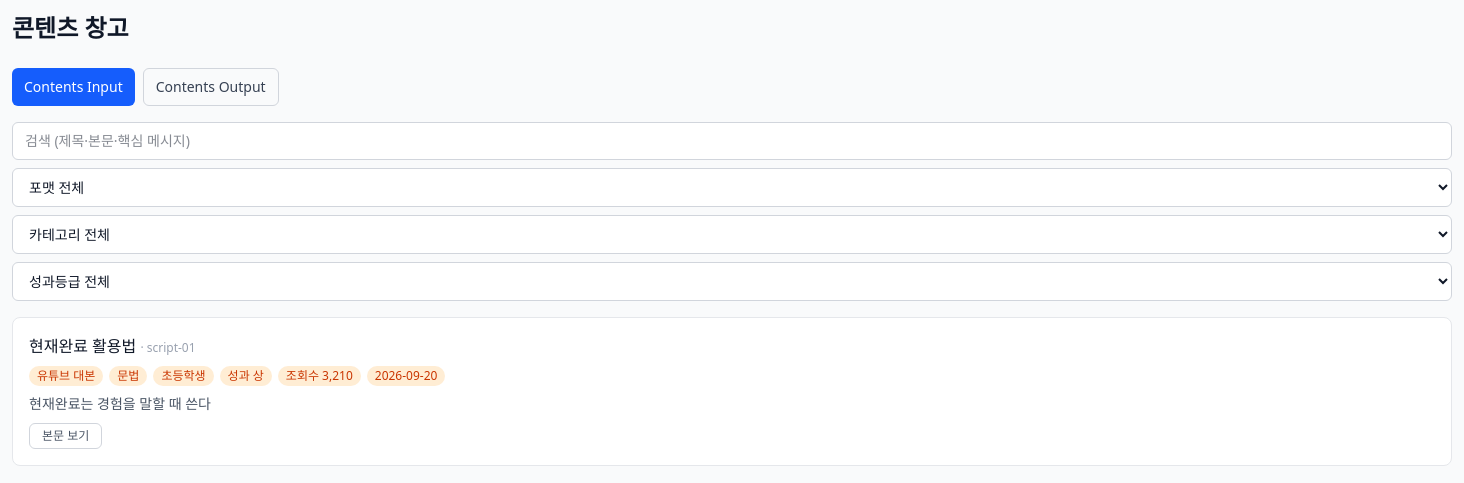
Test: 콘텐츠 창고 › Output 탭으로 전환하면 결과물 추가 버튼이 보인다
This screenshot has width=1464, height=483.
Expected: the heading "현재완료 활용법 · script-01" is shown, [29,335,196,357]
Click the button "Contents Output" at (211, 87), box [143,68,279,106]
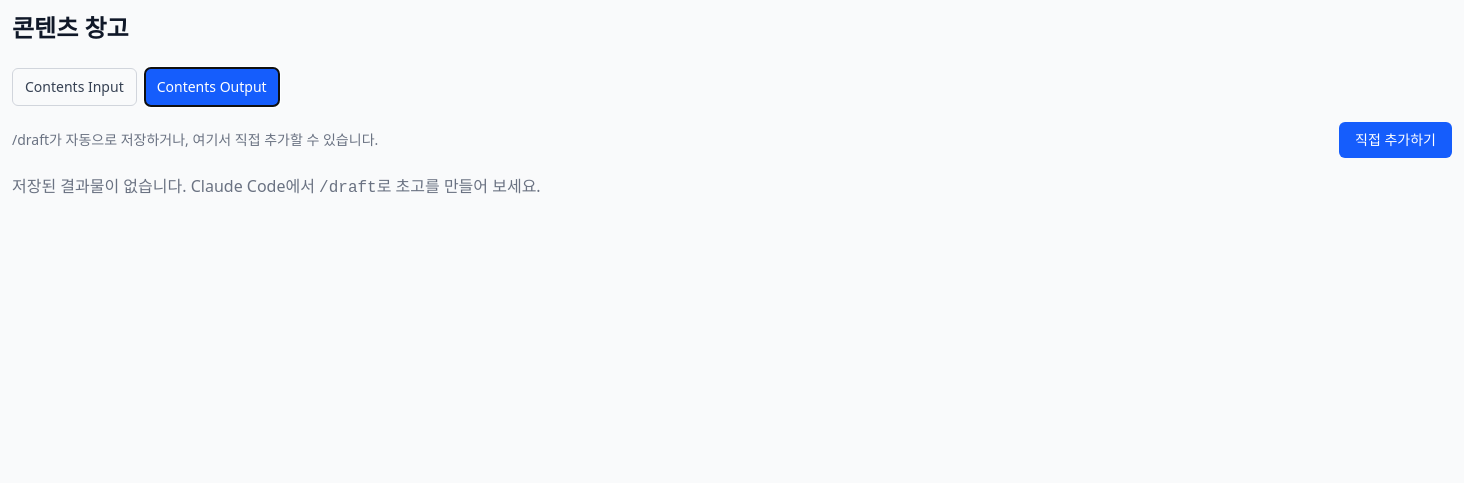
Result: the text "저장된 결과물이 없습니다" is shown at [12,175,319,197]
Result: the button "직접 추가하기" is shown at [1339,122,1452,158]
